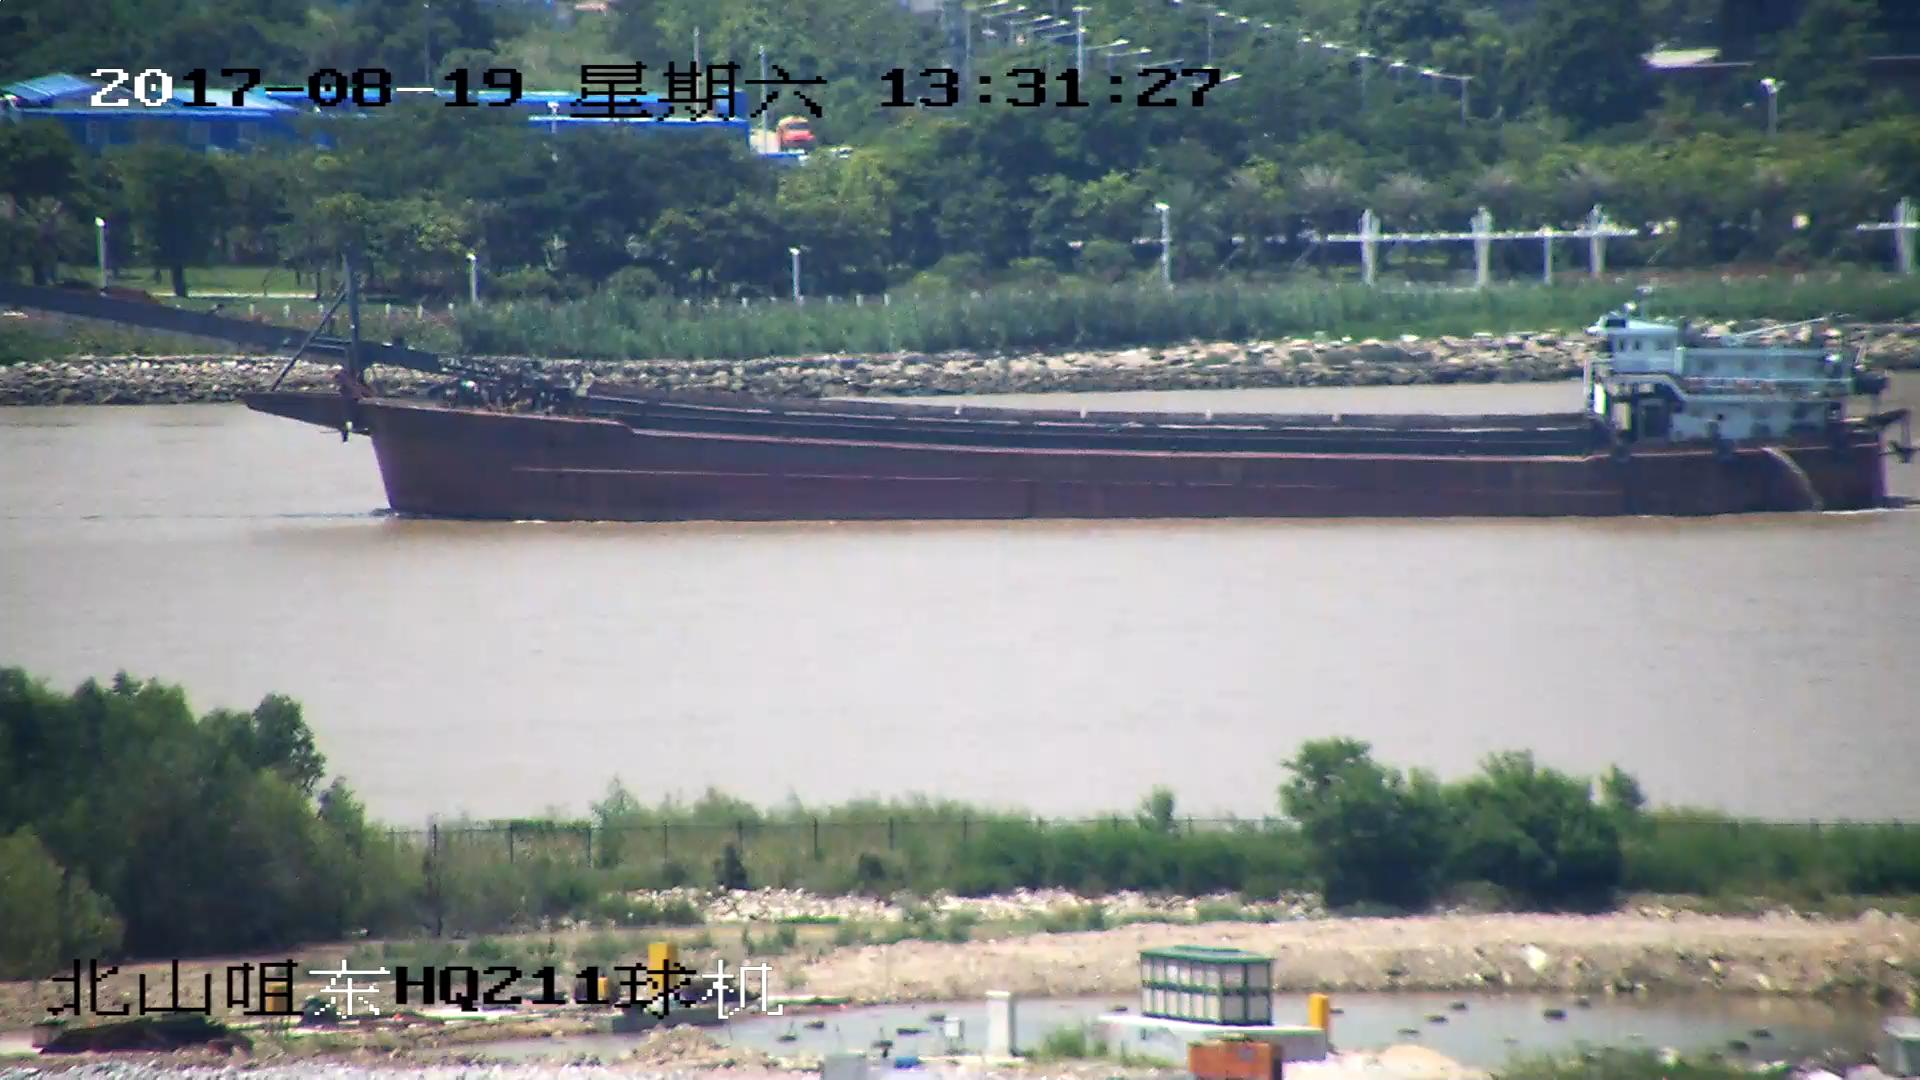bulk cargo carrier: (1, 262, 1908, 523)
